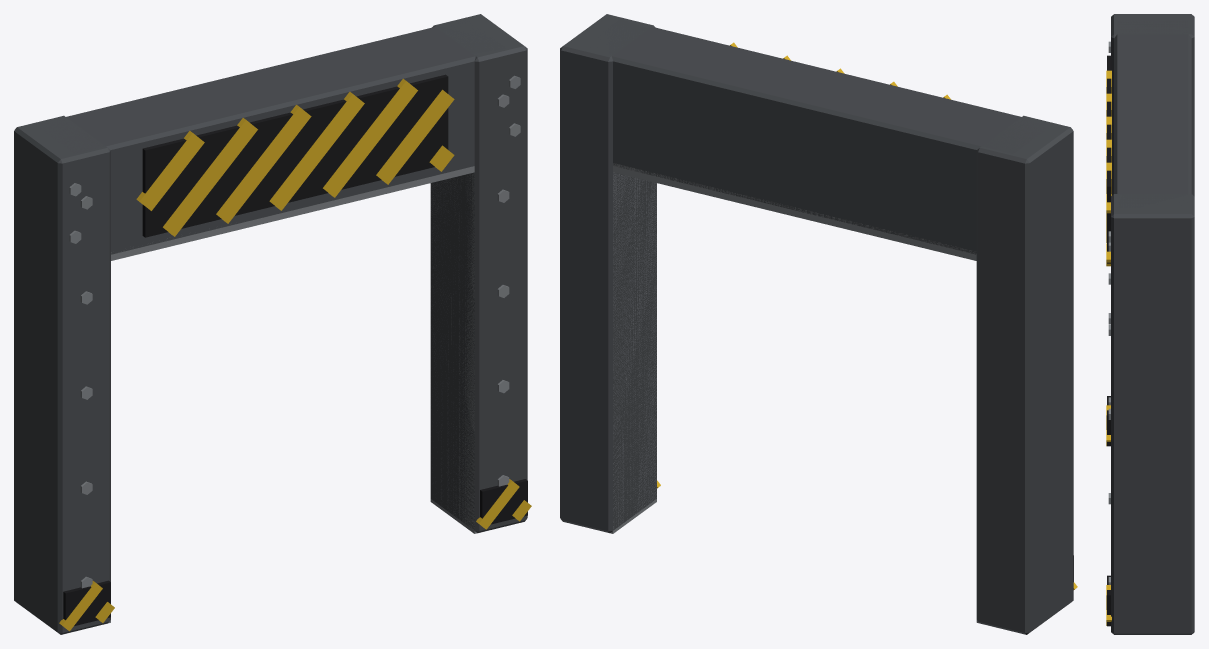
The model's file is blast_door_frame.fbx.
The picture shows the model from 3 angles, left to right: view 1: azimuth 30°, elevation 25°; view 2: azimuth 150°, elevation 25°; view 3: azimuth 270°, elevation 25°; orthographic projection. The views are drawn at different scales.
Visible parts, largest first — view 1: blast_door_frame; view 2: blast_door_frame; view 3: blast_door_frame.
Boxes of the visible parts, <box> form: blast_door_frame: <box>14,14,531,634</box>; blast_door_frame: <box>560,14,1077,634</box>; blast_door_frame: <box>1106,14,1194,634</box>.
Size of the model in its own units: 3.1 by 3 by 0.57.
